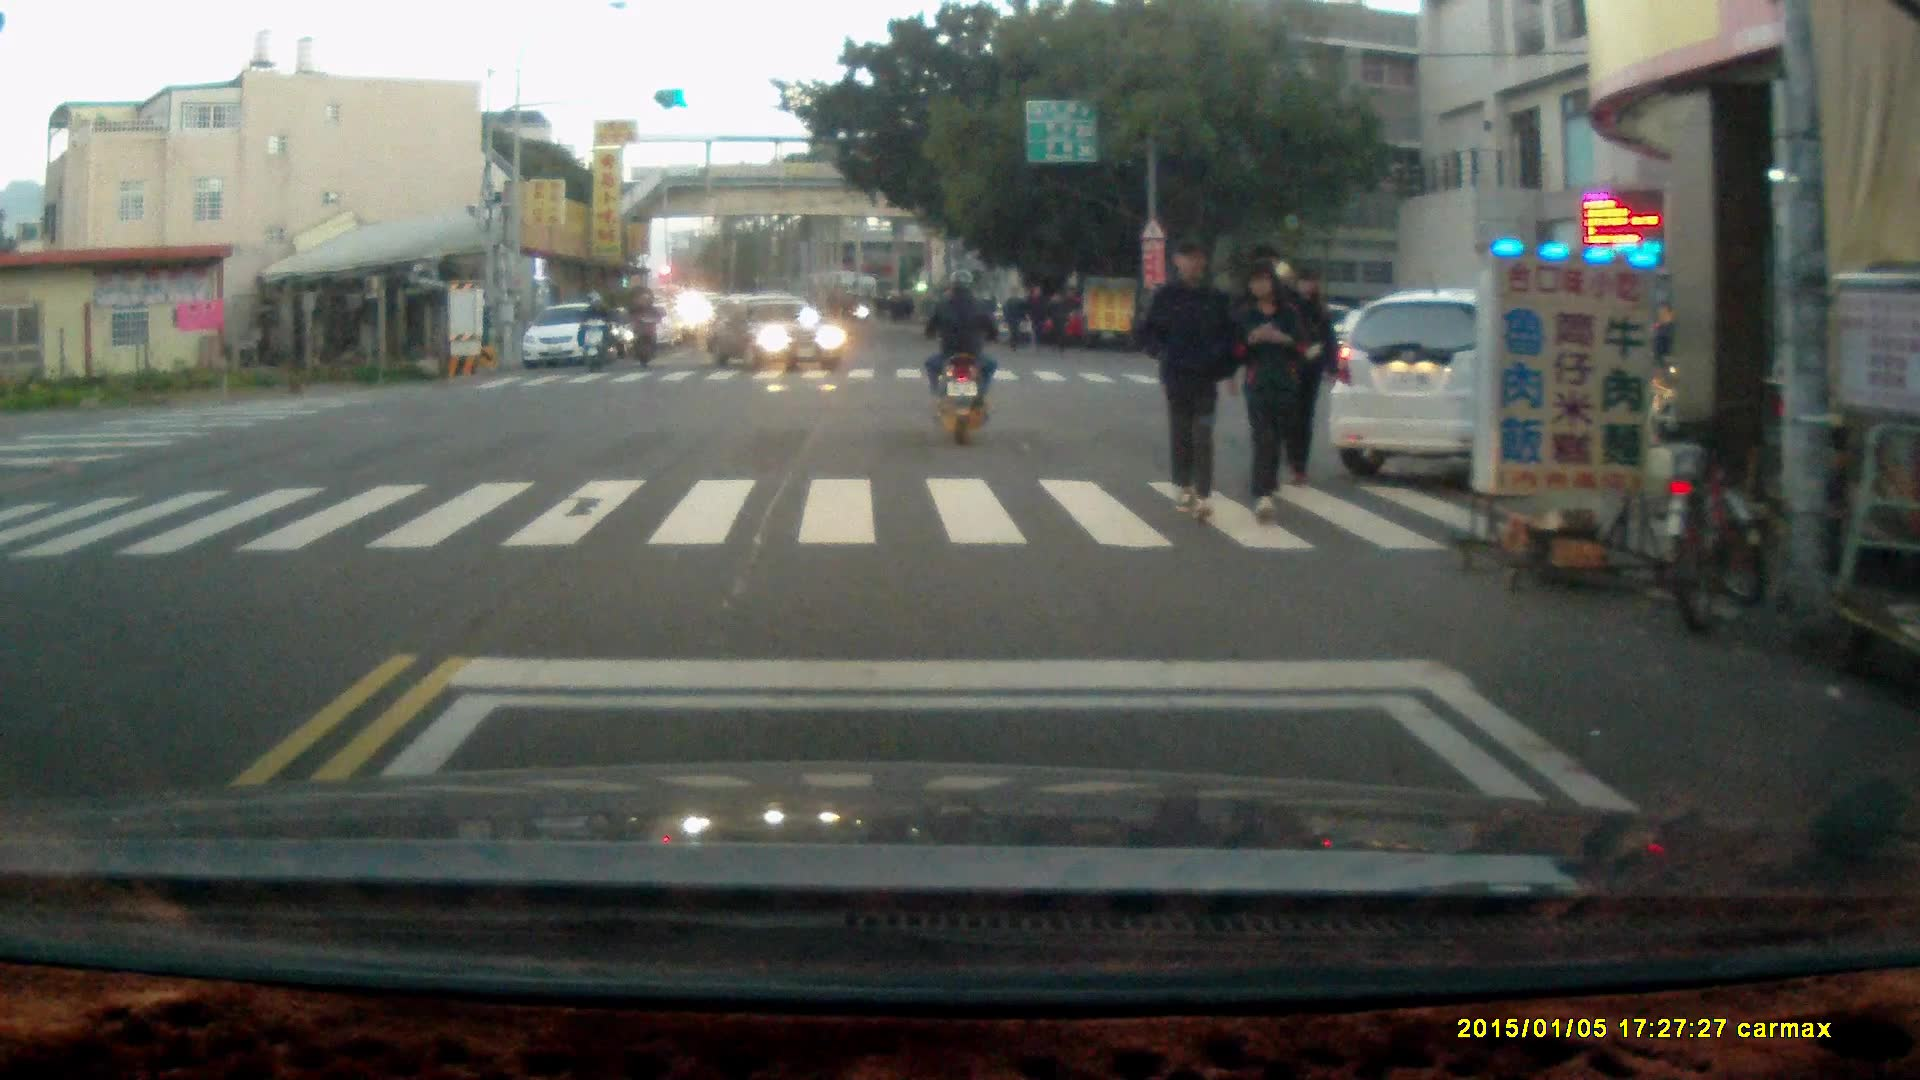pedestrian: (1139, 234, 1236, 521), (1232, 262, 1307, 524), (1648, 300, 1677, 390), (1042, 288, 1070, 356), (1023, 278, 1049, 354), (1002, 282, 1027, 352)
rider: (925, 263, 996, 447), (628, 285, 665, 369), (578, 286, 612, 369)
vehicle: (1337, 301, 1680, 492), (703, 289, 847, 376), (523, 306, 618, 371)
